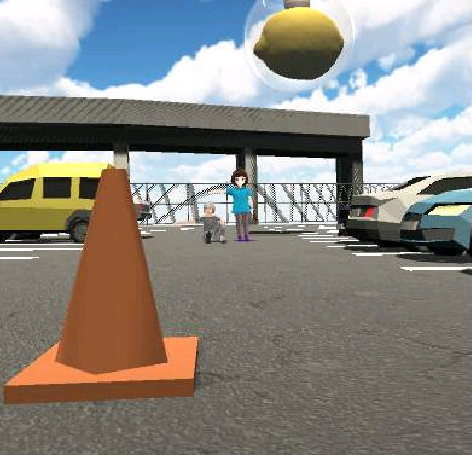doubleP_left: (169, 168, 254, 244)
